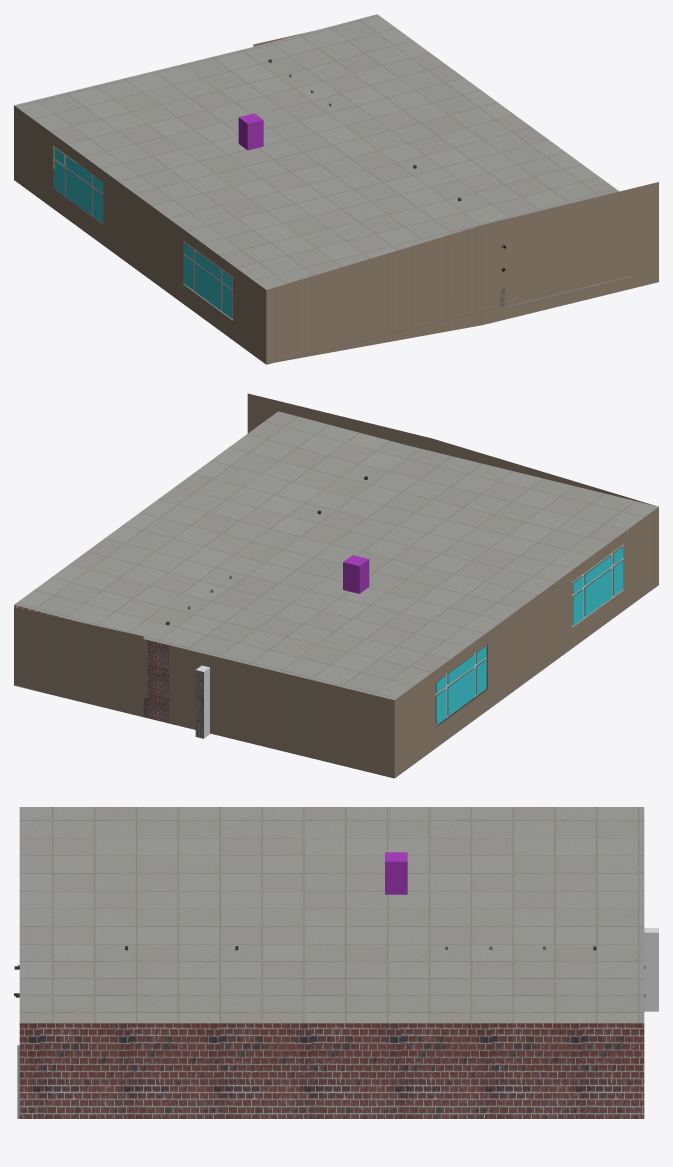
Rendered from L1TexturadoCompletadorotado3.fbx.
3 views of the same model, one above another, from view 1: azimuth 30°, elevation 25°; view 2: azimuth 150°, elevation 25°; view 3: azimuth 270°, elevation 25° (orthographic). The views are drawn at different scales.
Parts seen in each view (by area): view 1: L1, Piso; view 2: L1, Paredfrente, Paredpasilloatras, L1.001, Piso; view 3: L1, PAredLadrillo.
Part boxes in pixels (bbox=[...]): L1: bbox=[14, 14, 658, 364]; Piso: bbox=[53, 163, 232, 317]; L1: bbox=[14, 393, 658, 778]; Paredfrente: bbox=[169, 645, 394, 777]; Paredpasilloatras: bbox=[14, 607, 143, 717]; L1.001: bbox=[147, 640, 168, 722]; Piso: bbox=[435, 568, 623, 727]; L1: bbox=[14, 807, 658, 1118]; PAredLadrillo: bbox=[19, 1023, 644, 1118].
Bounding box in the file's own units: 4962 × 1380 × 5698.
